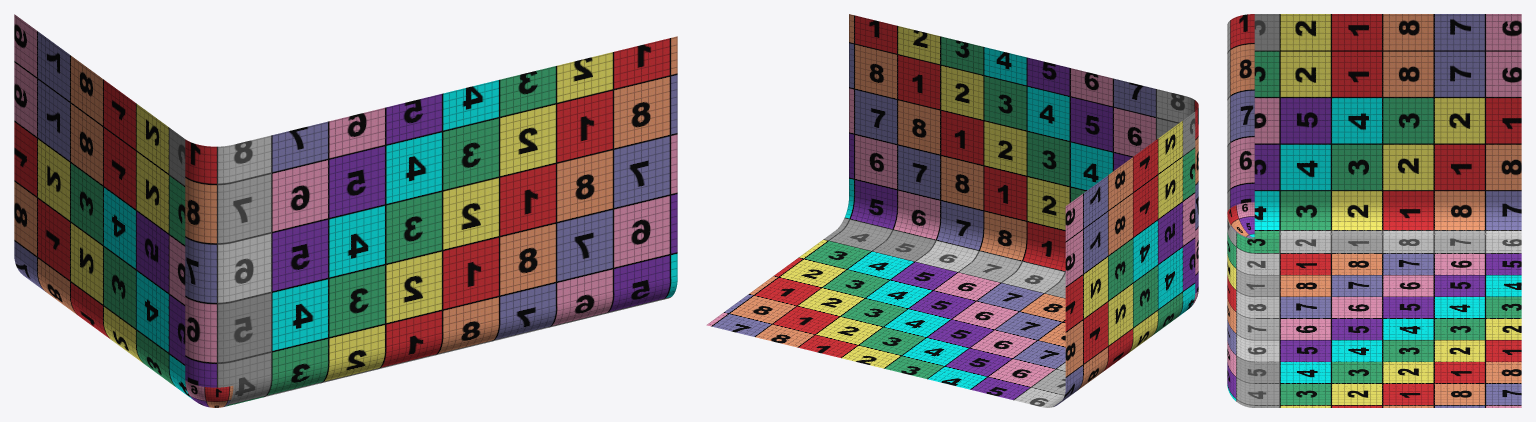
The model's file is stage.fbx.
The picture shows the model from 3 angles, left to right: view 1: azimuth 30°, elevation 25°; view 2: azimuth 150°, elevation 25°; view 3: azimuth 270°, elevation 25°; orthographic projection. The views are drawn at different scales.
Parts seen in each view (by area): view 1: stage; view 2: stage; view 3: stage.
Part boxes in pixels (left/top/right/bottom): stage: left=14, top=14, right=677, bottom=407; stage: left=706, top=14, right=1198, bottom=407; stage: left=1227, top=14, right=1521, bottom=407.
Bounding box in the file's own units: 7.7 × 4.23 × 5.3.
